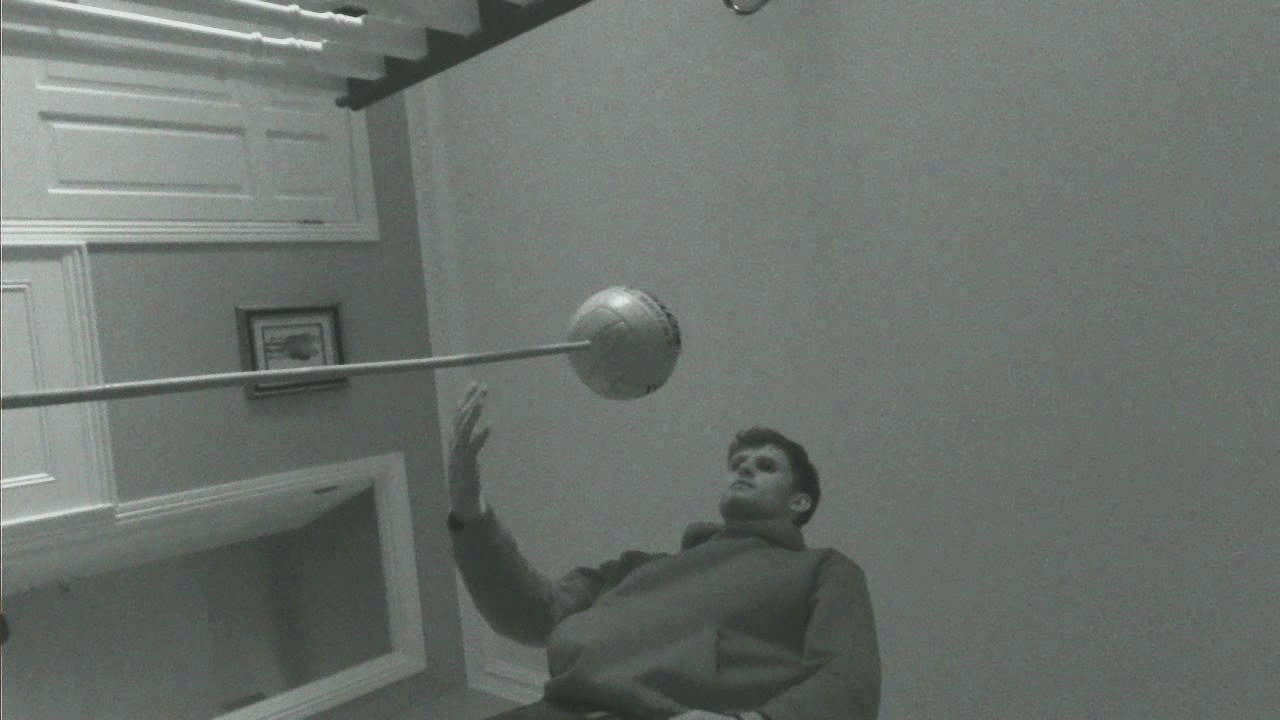Football-Spotter: (568, 287, 680, 398)
